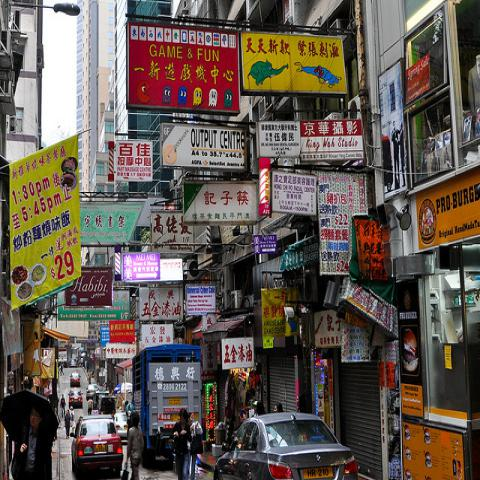car: (213, 411, 359, 479), (69, 413, 125, 478), (70, 372, 100, 400), (114, 412, 128, 438), (68, 389, 83, 408), (70, 359, 77, 366)
truck: (132, 346, 202, 446), (91, 392, 117, 414)
